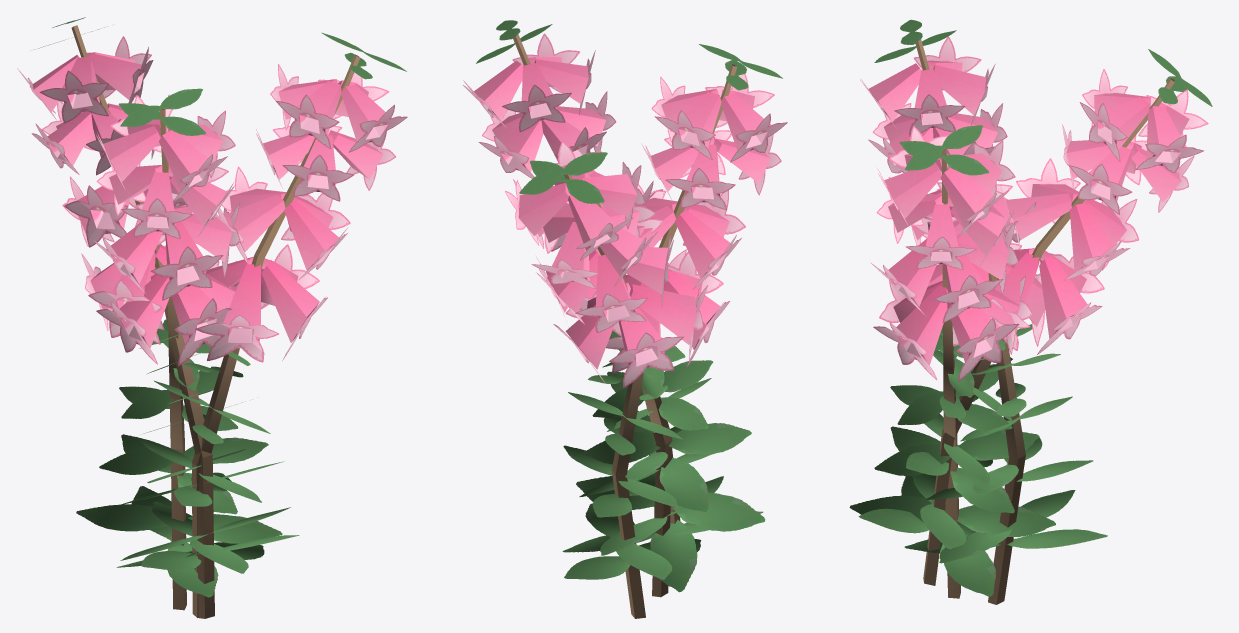
File: CommonHeath_Hand.fbx
The picture shows the model from 3 angles, left to right: view 1: azimuth 30°, elevation 25°; view 2: azimuth 150°, elevation 25°; view 3: azimuth 270°, elevation 25°; orthographic projection.
Parts seen in each view (by area): view 1: DesertPea, DesertPea (1), DesertPea (2); view 2: DesertPea (2), DesertPea, DesertPea (1); view 3: DesertPea (1), DesertPea (2), DesertPea.
Part boxes in pixels (bbox=[...]): DesertPea: bbox=[76, 88, 282, 610]; DesertPea (1): bbox=[138, 32, 407, 617]; DesertPea (2): bbox=[17, 17, 299, 618]; DesertPea (2): bbox=[505, 141, 765, 592]; DesertPea: bbox=[563, 44, 787, 618]; DesertPea (1): bbox=[463, 20, 763, 597]; DesertPea (1): bbox=[849, 125, 1055, 598]; DesertPea (2): bbox=[858, 49, 1212, 585]; DesertPea: bbox=[860, 19, 1107, 604].
Size of the model in its own units: 0.9897 by 1.64 by 1.07.
